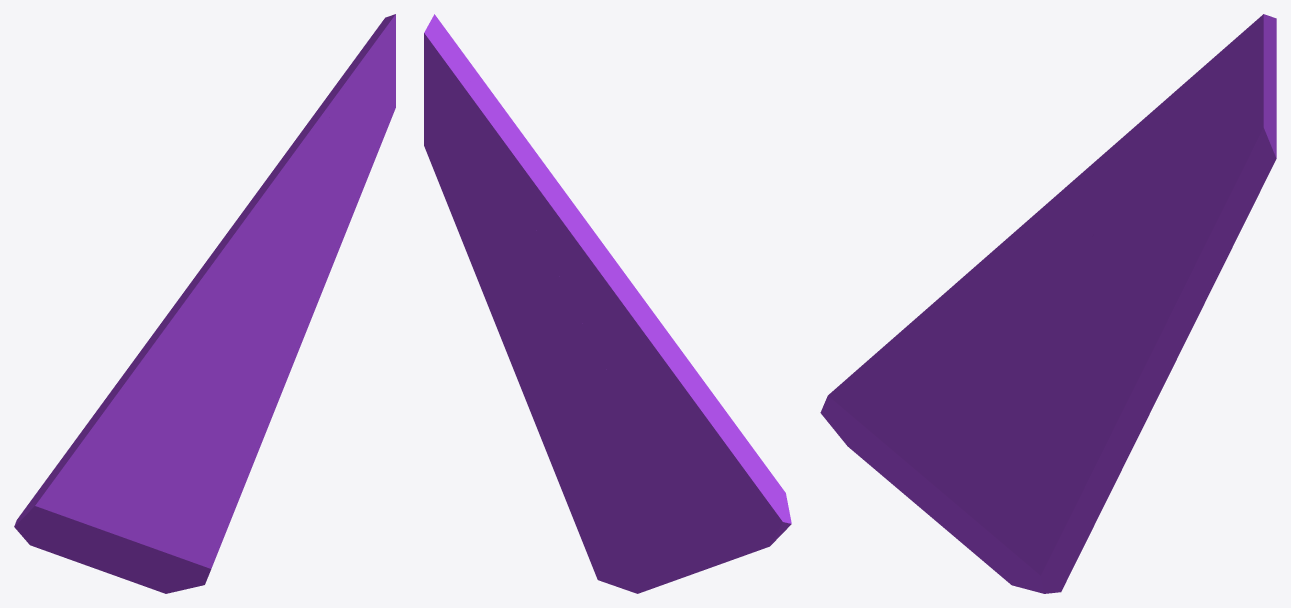
File: Glass_83_1_27_chunks.fbx
3 renders of one model, left to right at view 1: azimuth 30°, elevation 25°; view 2: azimuth 150°, elevation 25°; view 3: azimuth 330°, elevation 25°, orthographic. The views are drawn at different scales.
Parts seen in each view (by area): view 1: Glass_83_1_27_1, Glass_83_1_27_4, Glass_83_1_27_2, Glass_83_1_27_6, Glass_83_1_27_5, Glass_83_1_27_0, Glass_83_1_27_3; view 2: Glass_83_1_27_1, Glass_83_1_27_2, Glass_83_1_27_4, Glass_83_1_27_6, Glass_83_1_27_3, Glass_83_1_27_0; view 3: Glass_83_1_27_1, Glass_83_1_27_4, Glass_83_1_27_2, Glass_83_1_27_6, Glass_83_1_27_5, Glass_83_1_27_0, Glass_83_1_27_3.
Part boxes in pixels (x1,y1,x2,y2): Glass_83_1_27_1: [14, 429, 240, 593]; Glass_83_1_27_4: [190, 264, 329, 495]; Glass_83_1_27_2: [83, 73, 349, 429]; Glass_83_1_27_6: [310, 14, 395, 273]; Glass_83_1_27_5: [274, 40, 376, 268]; Glass_83_1_27_0: [53, 393, 190, 480]; Glass_83_1_27_3: [230, 227, 282, 314]; Glass_83_1_27_1: [563, 410, 791, 593]; Glass_83_1_27_2: [464, 74, 719, 433]; Glass_83_1_27_4: [481, 268, 626, 494]; Glass_83_1_27_6: [424, 14, 522, 288]; Glass_83_1_27_3: [519, 198, 580, 319]; Glass_83_1_27_0: [712, 393, 767, 468]; Glass_83_1_27_1: [820, 376, 1103, 593]; Glass_83_1_27_4: [1015, 255, 1205, 506]; Glass_83_1_27_2: [919, 63, 1207, 350]; Glass_83_1_27_6: [1160, 14, 1276, 300]; Glass_83_1_27_5: [1117, 35, 1239, 265]; Glass_83_1_27_0: [850, 316, 1015, 393]; Glass_83_1_27_3: [1063, 200, 1126, 279].
Bounding box in the file's own units: 550 × 750 × 27.2.
